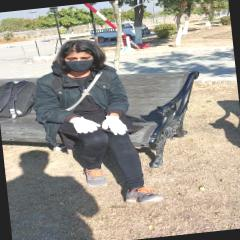gloved: (102, 113, 130, 136), (70, 115, 102, 135)
